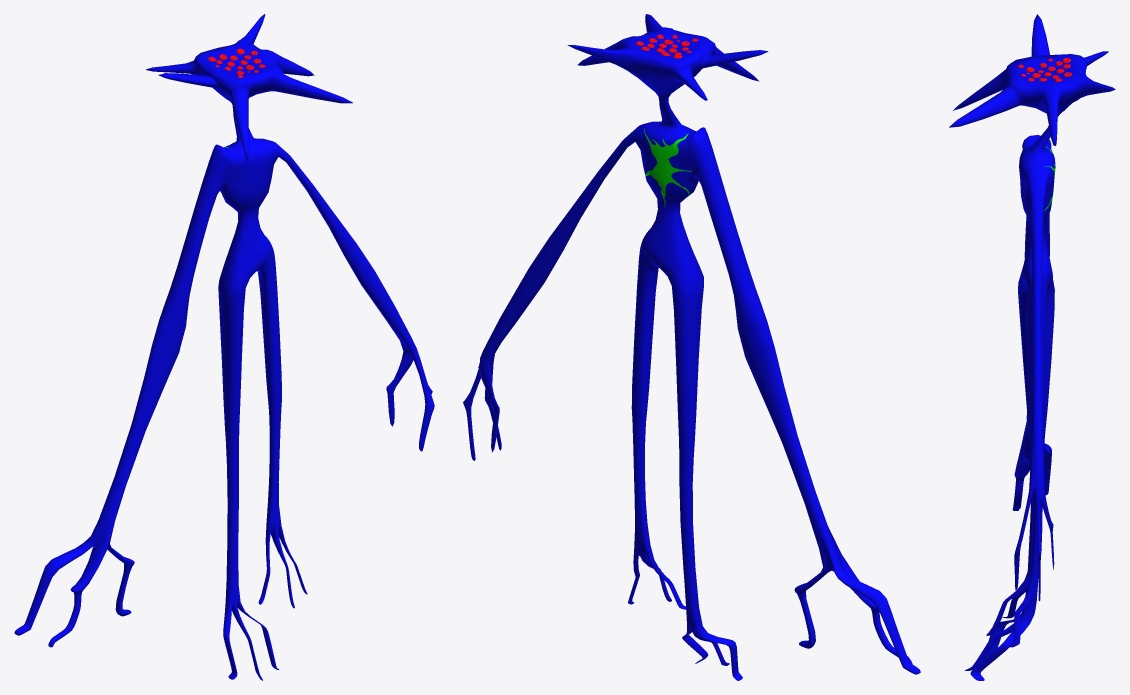
Rendered from EnemyMask.fbx.
3 renders of one model, left to right at view 1: azimuth 30°, elevation 25°; view 2: azimuth 150°, elevation 25°; view 3: azimuth 270°, elevation 25°, orthographic. The views are drawn at different scales.
Parts seen in each view (by area): view 1: Eyes; view 2: Eyes; view 3: Eyes.
Part boxes in pixels (box(x1,y1,x2,y2)): Eyes: box(14, 14, 434, 680); Eyes: box(463, 14, 920, 680); Eyes: box(949, 14, 1115, 680).
Size of the model in its own units: 180 by 247 by 60.19.
